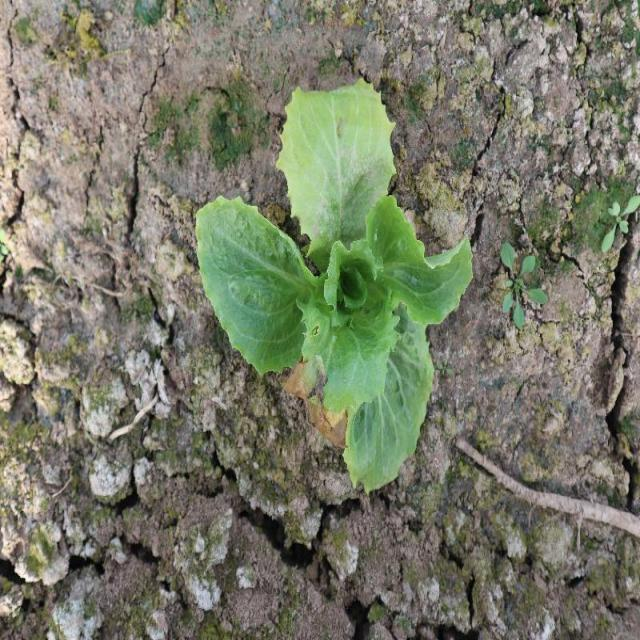crop: (196, 82, 473, 497)
